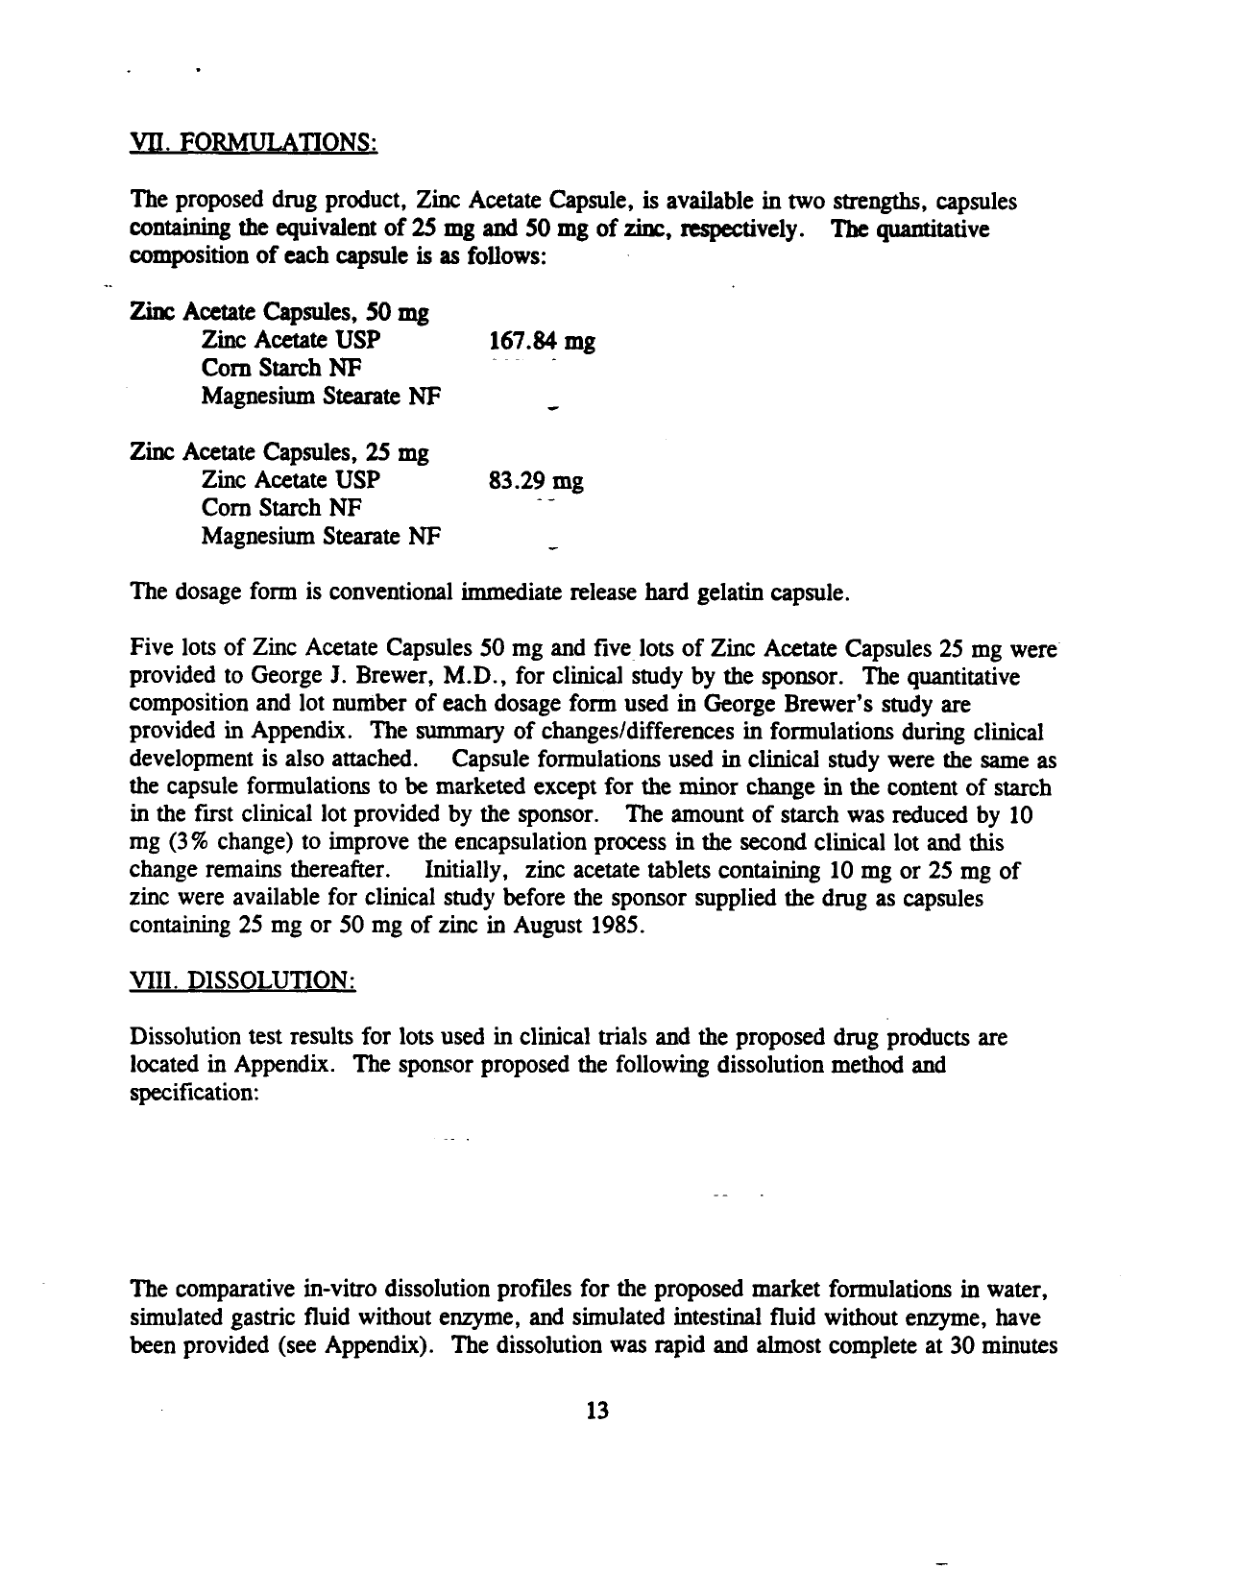nolines: (124, 296, 598, 550)
